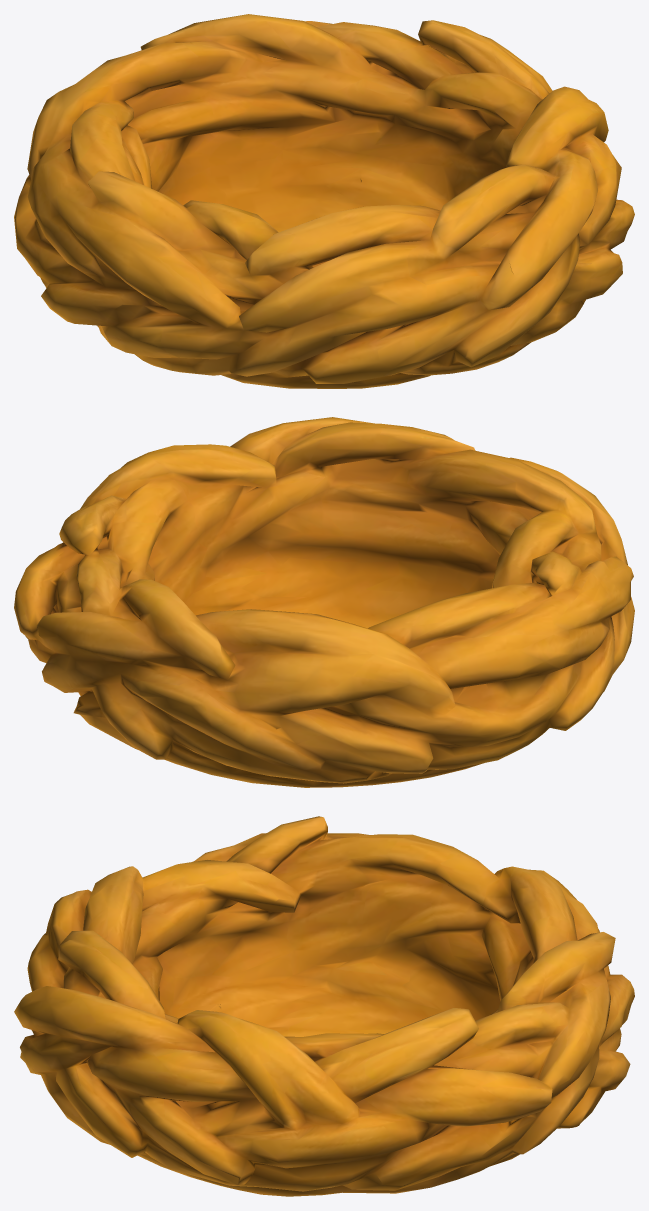
The model's file is nest.glb.
The picture shows the model from 3 angles, top to bottom: view 1: azimuth 30°, elevation 25°; view 2: azimuth 150°, elevation 25°; view 3: azimuth 270°, elevation 25°; orthographic projection. The views are drawn at different scales.
Parts seen in each view (by area): view 1: tripo_node_835d8ef2-ee8b-49fc-bcf2-2d99401a4de4; view 2: tripo_node_835d8ef2-ee8b-49fc-bcf2-2d99401a4de4; view 3: tripo_node_835d8ef2-ee8b-49fc-bcf2-2d99401a4de4.
Part boxes in pixels (x1=…): tripo_node_835d8ef2-ee8b-49fc-bcf2-2d99401a4de4: x1=14, y1=14, x2=634, y2=388; tripo_node_835d8ef2-ee8b-49fc-bcf2-2d99401a4de4: x1=14, y1=417, x2=634, y2=787; tripo_node_835d8ef2-ee8b-49fc-bcf2-2d99401a4de4: x1=14, y1=816, x2=634, y2=1196.
Bounding box in the file's own units: 0.9935 × 0.3317 × 1.
1 material, 1 textured.
